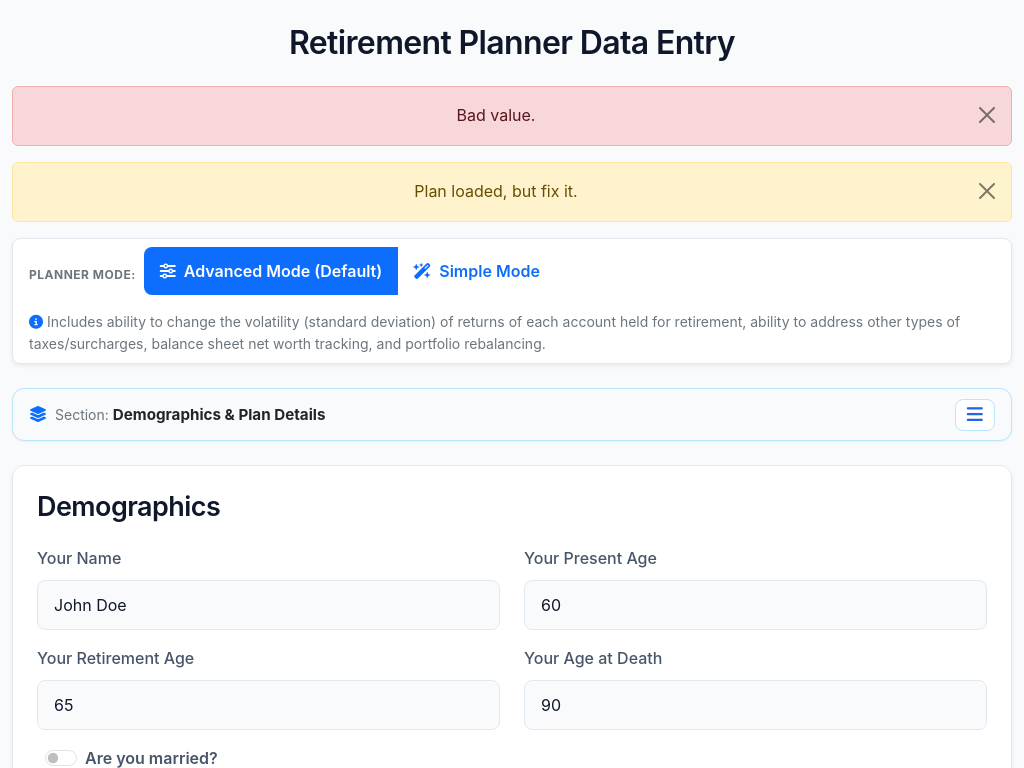
Scenario: flash messages › shows messages from the Manage page and lets them be dismissed
This screenshot has width=1024, height=768.
Click the button with class "btn-close" in the row of "Bad value.".
click(987, 115)  # box left=963, top=87, right=1011, bottom=143
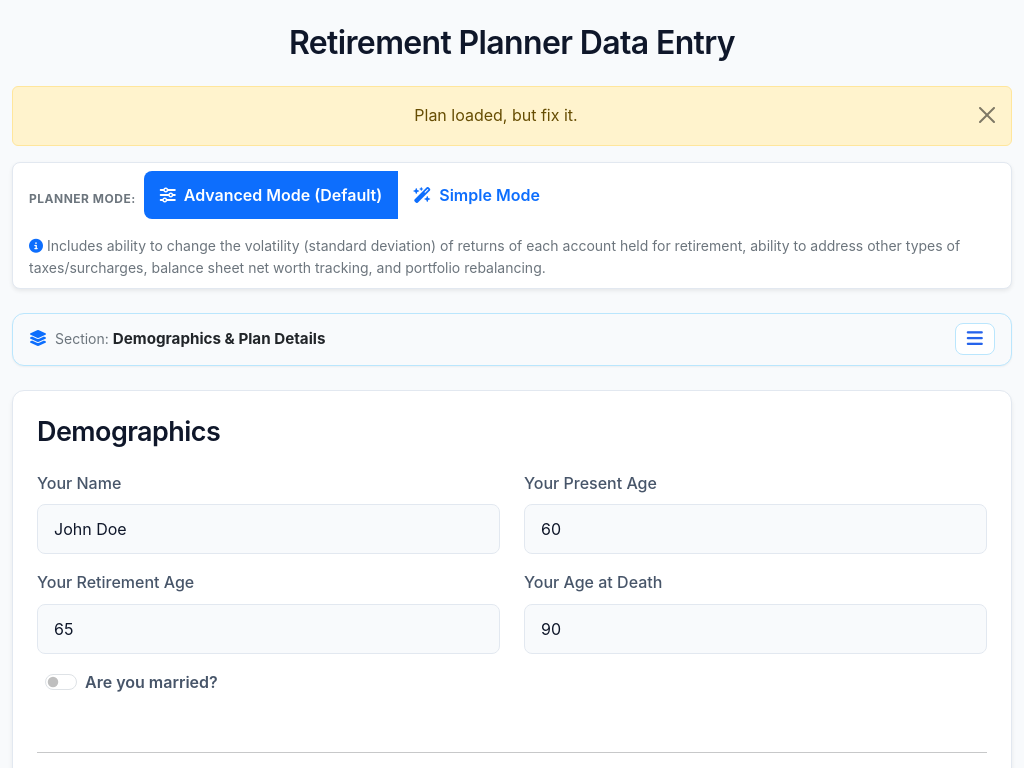
Expected: the number of messages with class "flash-message" is 1, left=12, top=86, right=1012, bottom=146
